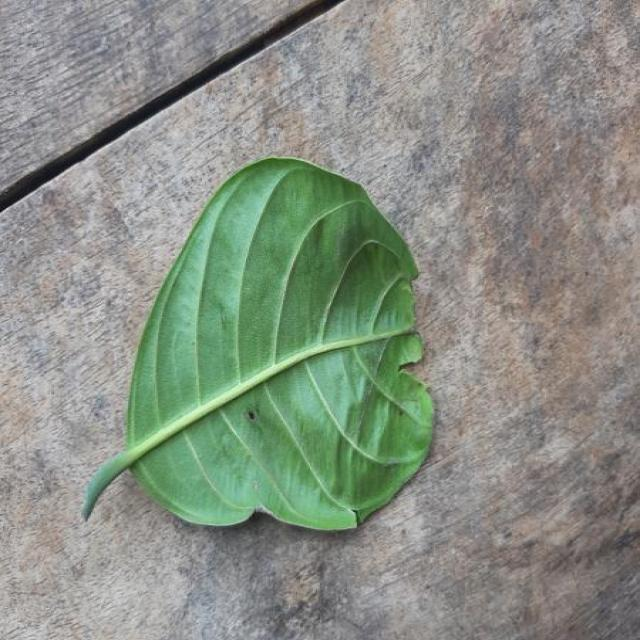Jackfruit: (82, 158, 432, 530)
